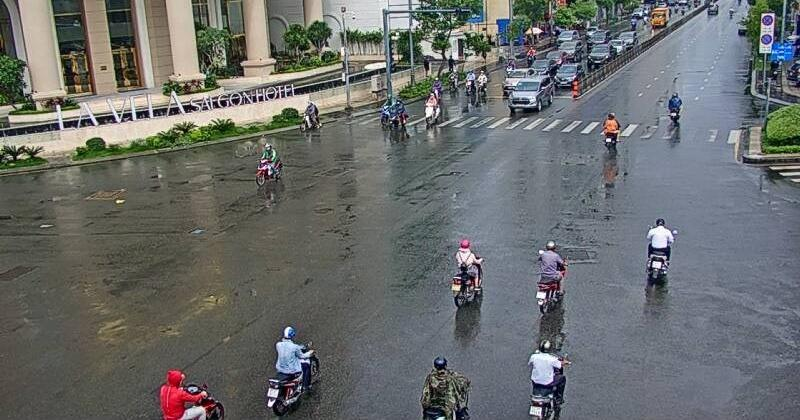xe hoi: (509, 74, 554, 113)
xe may: (265, 321, 320, 415), (417, 355, 471, 420), (157, 369, 220, 420), (526, 340, 566, 420), (532, 241, 567, 313), (448, 236, 482, 303), (256, 139, 282, 187), (601, 110, 619, 153), (388, 98, 408, 131), (300, 100, 321, 131), (422, 92, 441, 125), (666, 92, 681, 123)
